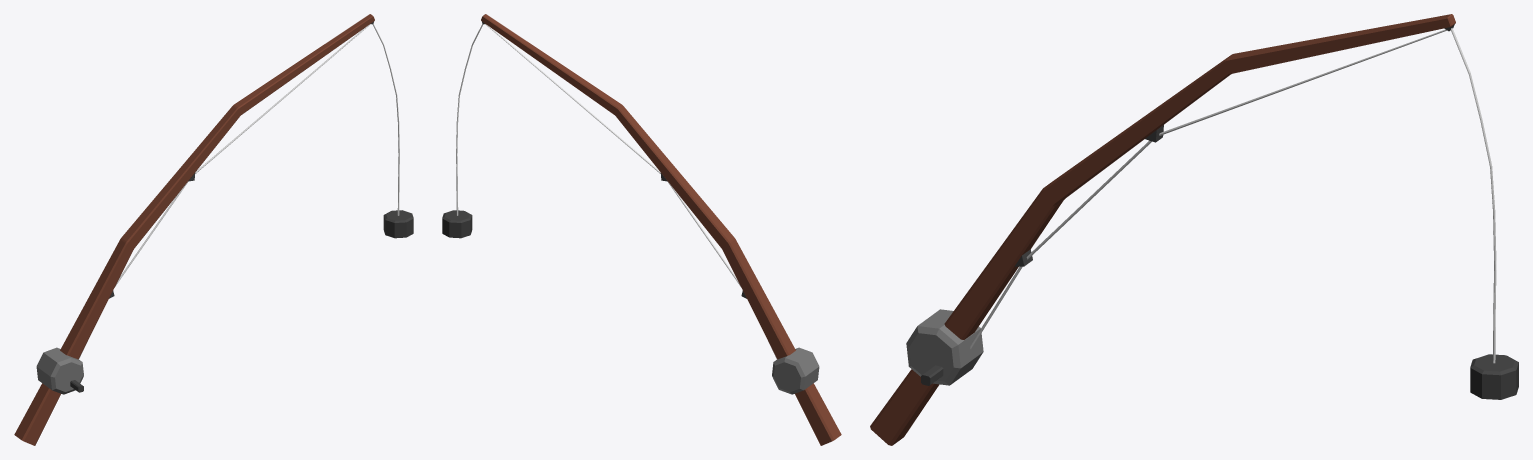
Rendered from fishingrod.fbx.
3 renders of one model, left to right at view 1: azimuth 30°, elevation 25°; view 2: azimuth 150°, elevation 25°; view 3: azimuth 330°, elevation 25°, orthographic. The views are drawn at different scales.
Visible parts, largest first — view 1: cañaPescar.001; view 2: cañaPescar.001; view 3: cañaPescar.001.
Part boxes in pixels (x1=…): cañaPescar.001: x1=14, y1=14, x2=413, y2=445; cañaPescar.001: x1=442, y1=14, x2=841, y2=445; cañaPescar.001: x1=870, y1=14, x2=1518, y2=445.
Bounding box in the file's own units: 154 × 129 × 16.66.
